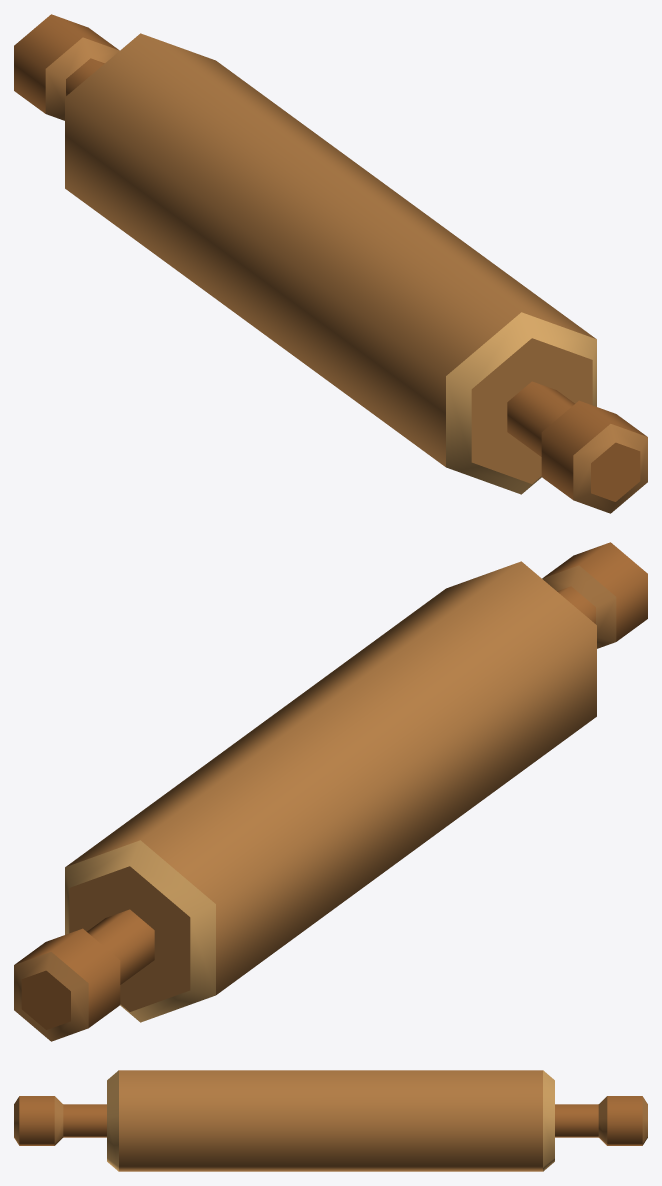
File: FoodProp_2_B.fbx
The picture shows the model from 3 angles, top to bottom: view 1: azimuth 30°, elevation 25°; view 2: azimuth 150°, elevation 25°; view 3: azimuth 270°, elevation 25°; orthographic projection. The views are drawn at different scales.
Parts seen in each view (by area): view 1: FoodProp_2_B; view 2: FoodProp_2_B; view 3: FoodProp_2_B.
Part boxes in pixels (bbox=[...]): FoodProp_2_B: bbox=[14, 14, 647, 513]; FoodProp_2_B: bbox=[14, 542, 647, 1041]; FoodProp_2_B: bbox=[14, 1070, 647, 1171].
Bounding box in the file's own units: 8.71 × 10.05 × 56.86.
